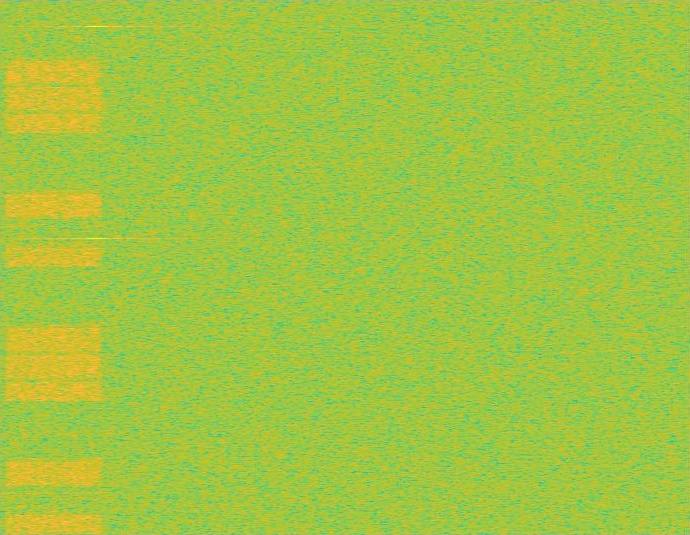LTE: (2, 0, 106, 534)
Radar: (90, 0, 104, 534)
